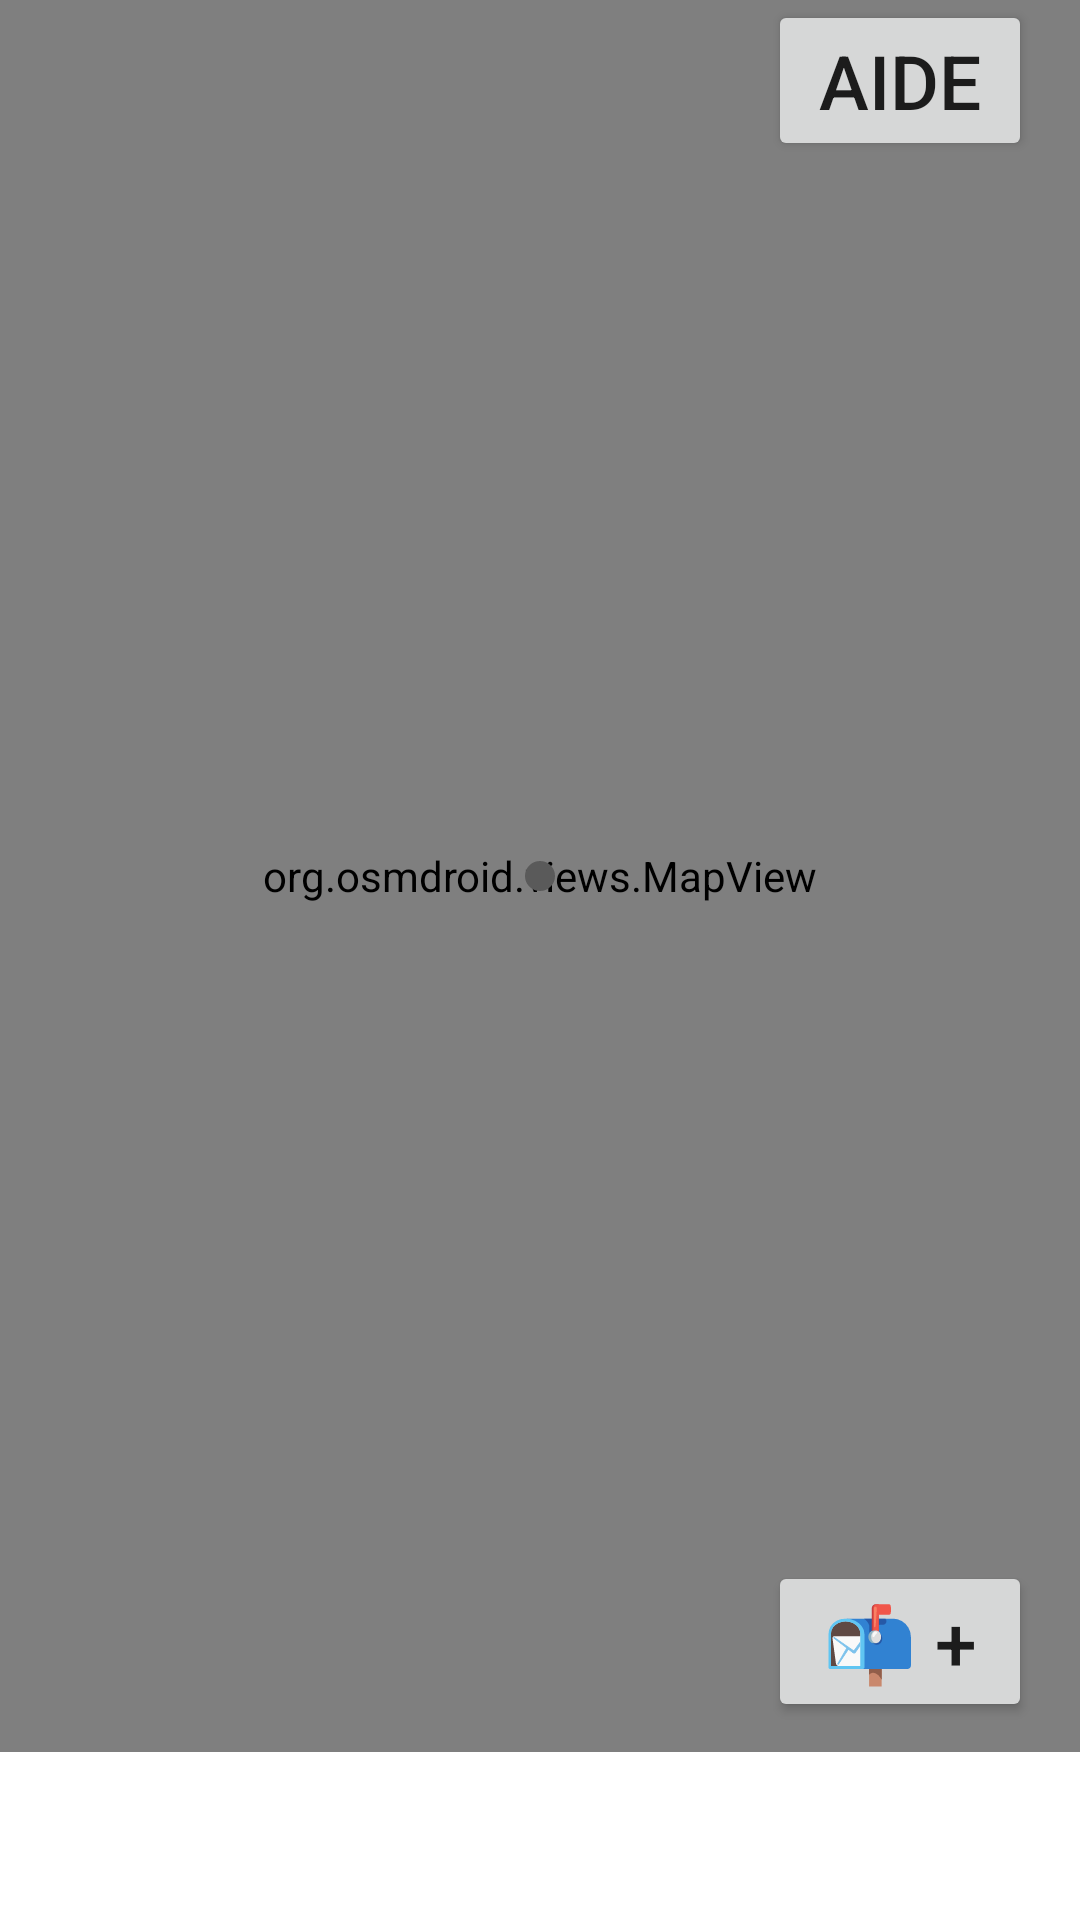

Icon bounding boxes for this 1080x1920 phone screenshot, format (x1, y1, x2, y2):
dot: (525, 861, 555, 891)
